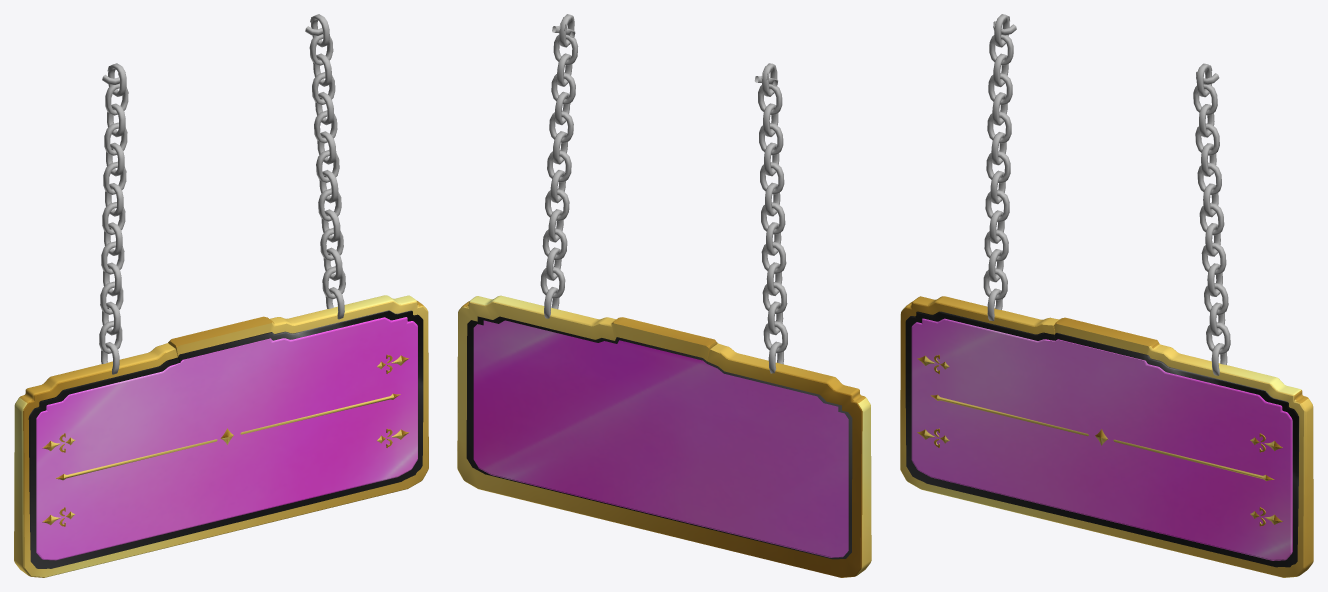
The model's file is UI_TIme&Money.obj.
3 renders of one model, left to right at view 1: azimuth 30°, elevation 25°; view 2: azimuth 150°, elevation 25°; view 3: azimuth 330°, elevation 25°, orthographic.
Parts seen in each view (by area): view 1: BarSign.002; view 2: BarSign.002; view 3: BarSign.002.
Boxes of the visible parts, x1=… form: BarSign.002: x1=14, y1=14, x2=428, y2=577; BarSign.002: x1=457, y1=14, x2=871, y2=577; BarSign.002: x1=900, y1=14, x2=1313, y2=577.
Size of the model in its own units: 5.56 by 6.41 by 0.3115.
1 material, 1 textured.
